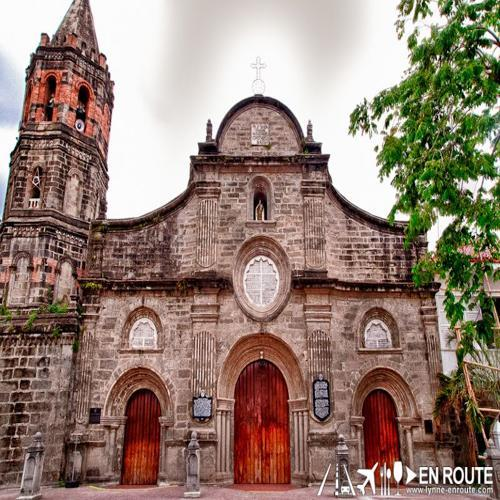Barasoain Church: (4, 1, 444, 490)
